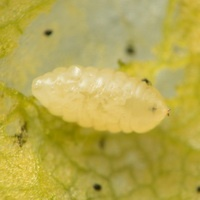insect: (32, 66, 167, 132)
